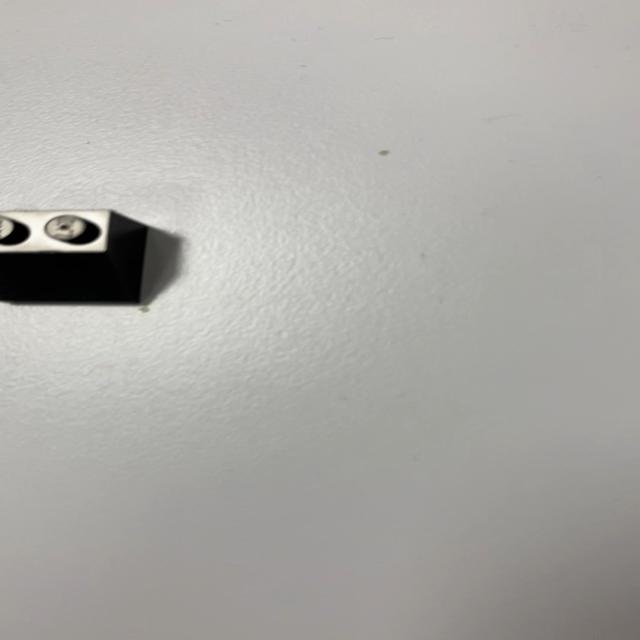P2x2x1: (0, 208, 148, 304)
